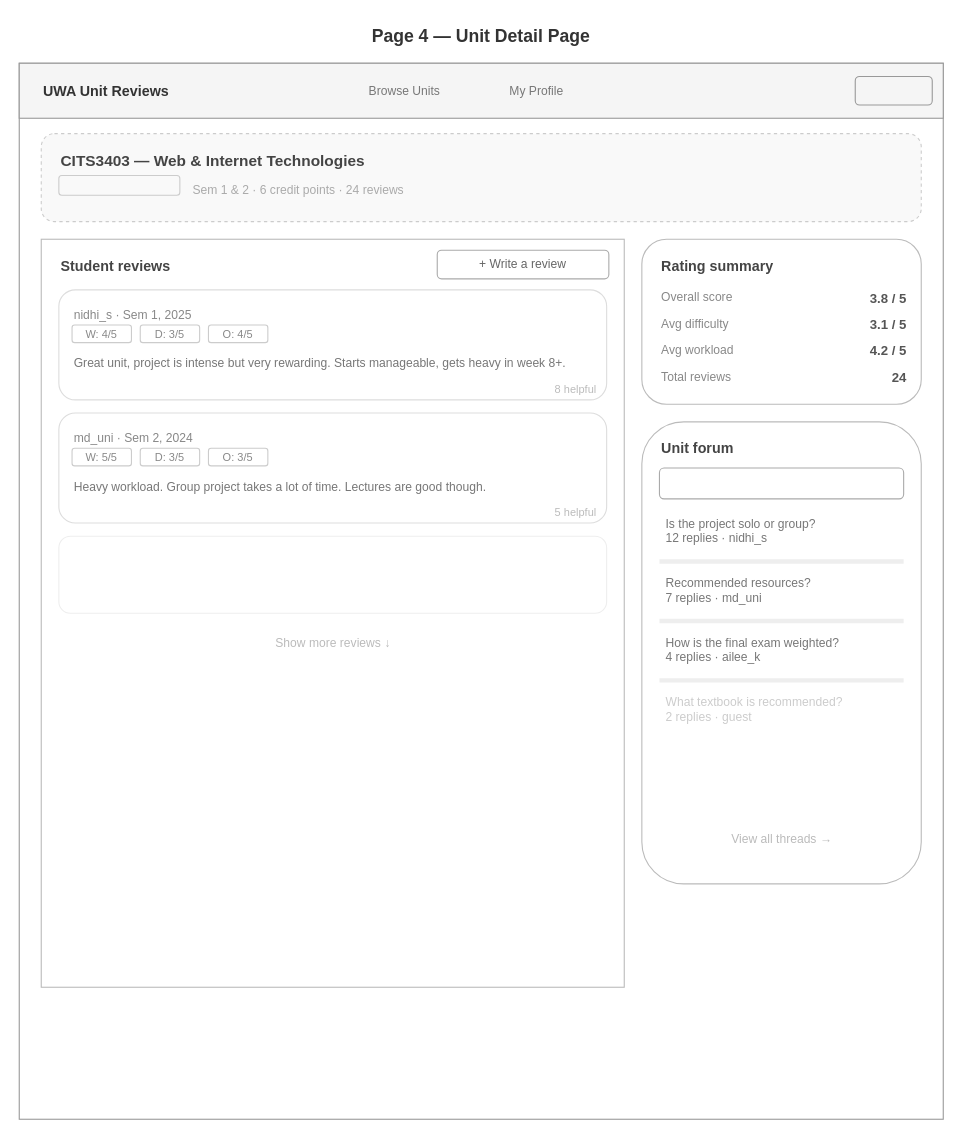
This 963x1139 diagram has some shape labels left out. The shapes that lost their labels are listed below. From the top down, each one's box as (x1, y1, x2, y2) in pixels, then its label:
(854, 75, 932, 105): Log out
(58, 174, 180, 195): Computer Science
(658, 467, 904, 499): + New thread
(58, 535, 607, 613): ailee_k · Sem 1, 2025 Good intro to web dev. A lot to learn from scratch...
